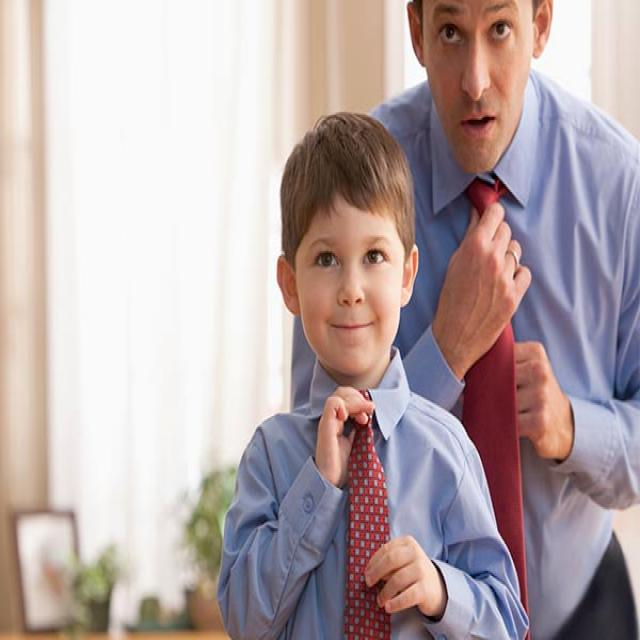adult: (289, 1, 640, 640)
child: (220, 114, 522, 640)
